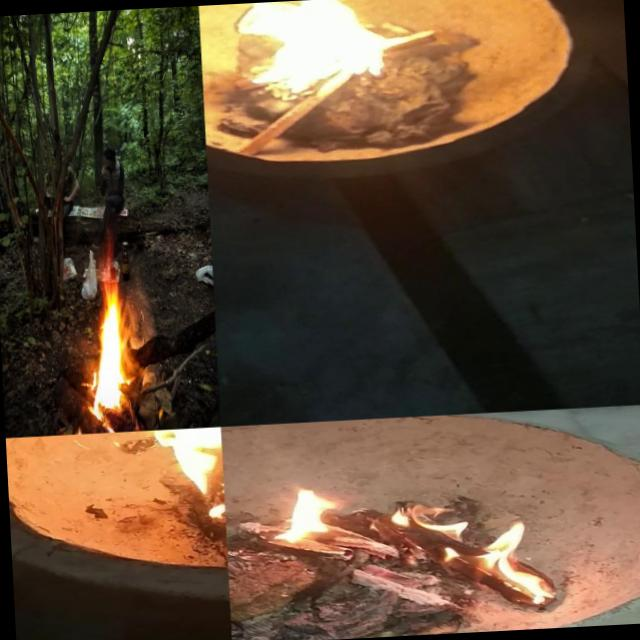fire: (387, 491, 559, 615), (217, 0, 397, 106), (76, 427, 225, 507), (81, 230, 131, 416), (245, 478, 354, 554)
smoke: (123, 261, 159, 346)
